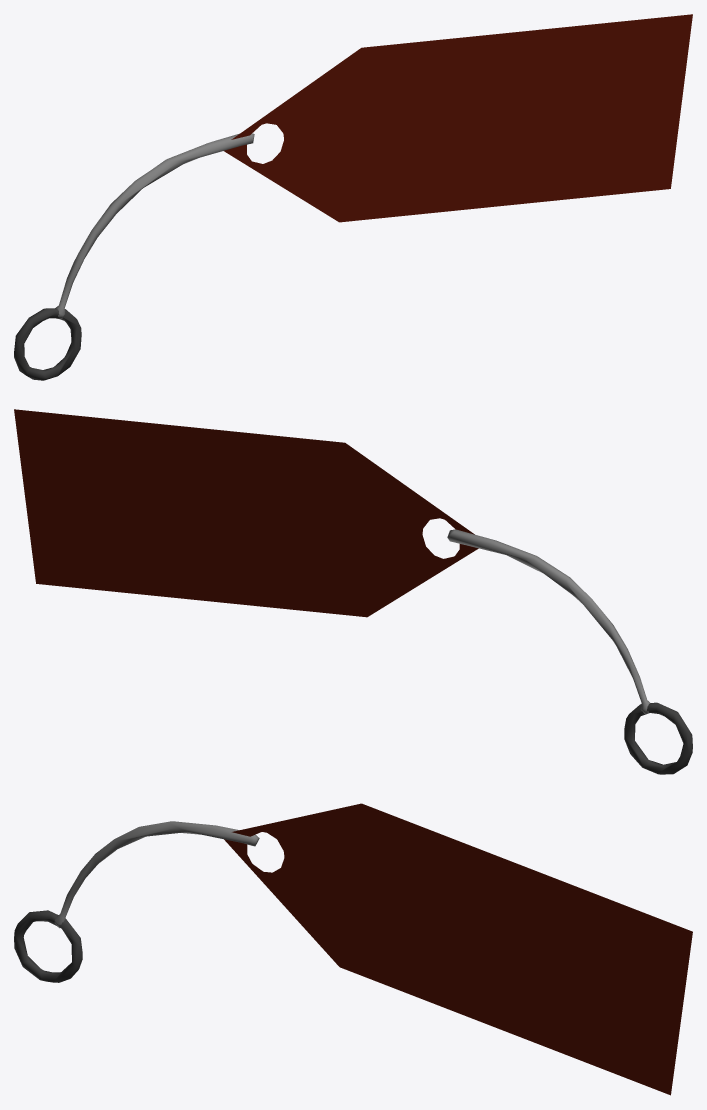
File: pricetag.glb
The picture shows the model from 3 angles, top to bottom: view 1: azimuth 30°, elevation 25°; view 2: azimuth 150°, elevation 25°; view 3: azimuth 330°, elevation 25°; orthographic projection.
Parts seen in each view (by area): view 1: Plane, Vert; view 2: Plane, Vert; view 3: Plane, Vert.
Boxes of the visible parts, bbox=[...] form: Plane: bbox=[224, 14, 692, 222]; Vert: bbox=[14, 133, 254, 380]; Plane: bbox=[14, 409, 478, 617]; Vert: bbox=[447, 529, 692, 774]; Plane: bbox=[224, 803, 692, 1095]; Vert: bbox=[14, 821, 259, 982].
Size of the model in its own units: 0.6498 by 0.2333 by 0.0137.
